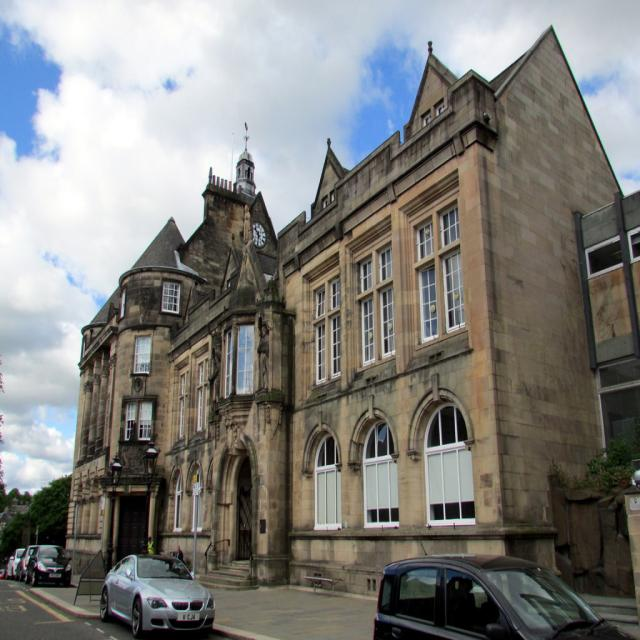car: (99, 552, 215, 637), (26, 543, 71, 584)
